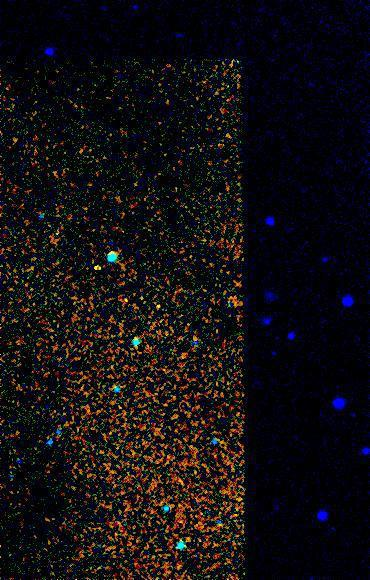star: (80, 249, 110, 279)
